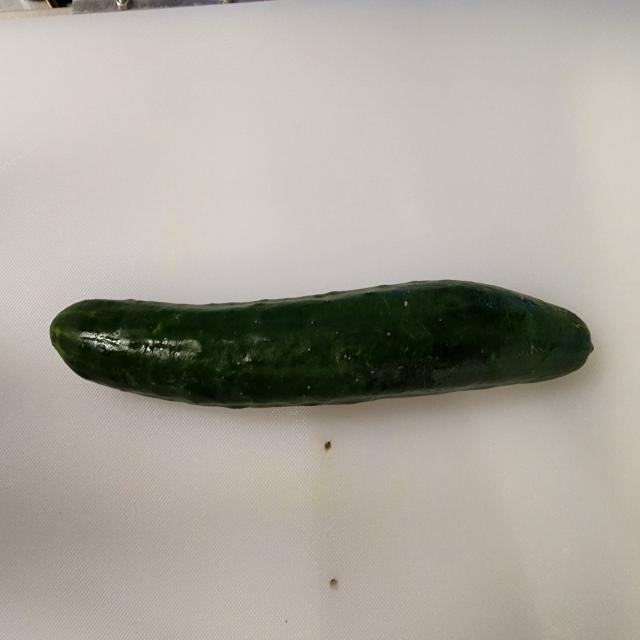cucumber: (49, 277, 594, 409)
